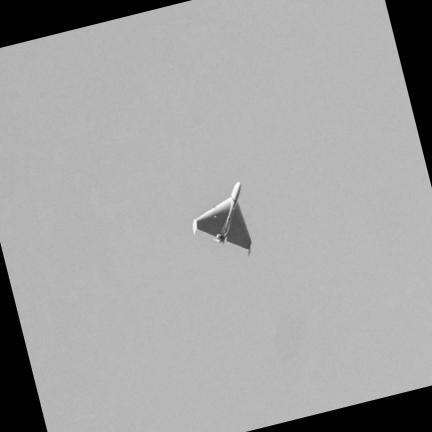Shahed: (193, 182, 251, 253)
